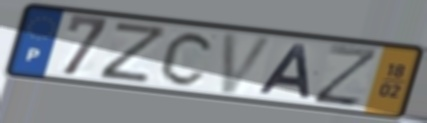7: (63, 12, 111, 80)
A: (256, 43, 314, 101)
C: (157, 29, 219, 88)
V: (217, 30, 279, 96)
Z: (310, 42, 383, 110), (97, 19, 172, 85)
